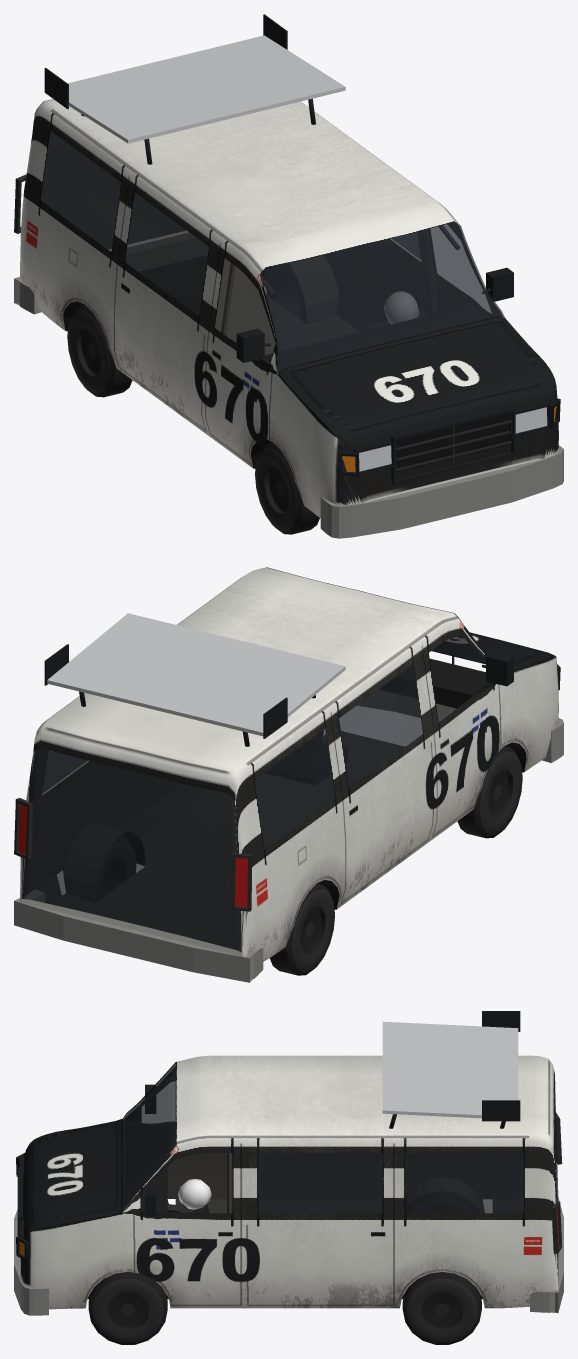
3 renders of one model, top to bottom at view 1: azimuth 30°, elevation 25°; view 2: azimuth 150°, elevation 25°; view 3: azimuth 270°, elevation 25°, orthographic. The views are drawn at different scales.
Parts seen in each view (by area): view 1: body, wheel_rr, wheel_fr, wheel_rl; view 2: body, wheel_rr, wheel_fr, wheel_rl; view 3: body, wheel_fl, wheel_rl, wheel_rr.
Part boxes in pixels (box(x1,y1,x2,y2)): body: box(14, 14, 563, 538); wheel_rr: box(67, 304, 132, 397); wheel_fr: box(255, 442, 319, 534); wheel_rl: box(266, 263, 306, 323); body: box(14, 567, 563, 982); wheel_rr: box(269, 883, 334, 975); wheel_fr: box(457, 746, 522, 838); wheel_rl: box(95, 835, 135, 901); body: box(14, 1011, 563, 1315); wheel_fl: box(88, 1272, 167, 1344); wheel_rl: box(402, 1272, 481, 1344); wheel_rr: box(405, 1191, 479, 1212).
Size of the model in its own units: 2.31 by 2.38 by 4.87.
2 materials, 1 textured.
